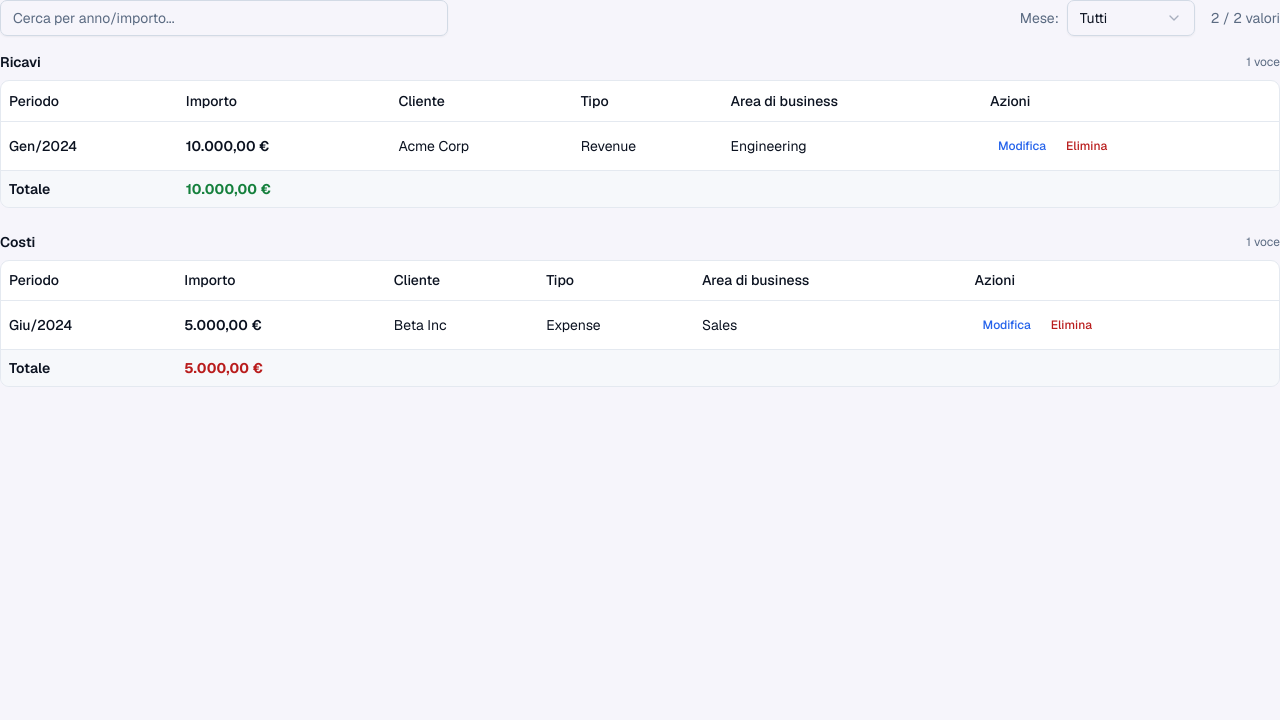
Test case: FinancialValueTable › closes the delete dialog when Cancel is clicked
Click the button "Elimina" in the row of "Gen".
click(1087, 146)  # box [1058,130,1115,162]
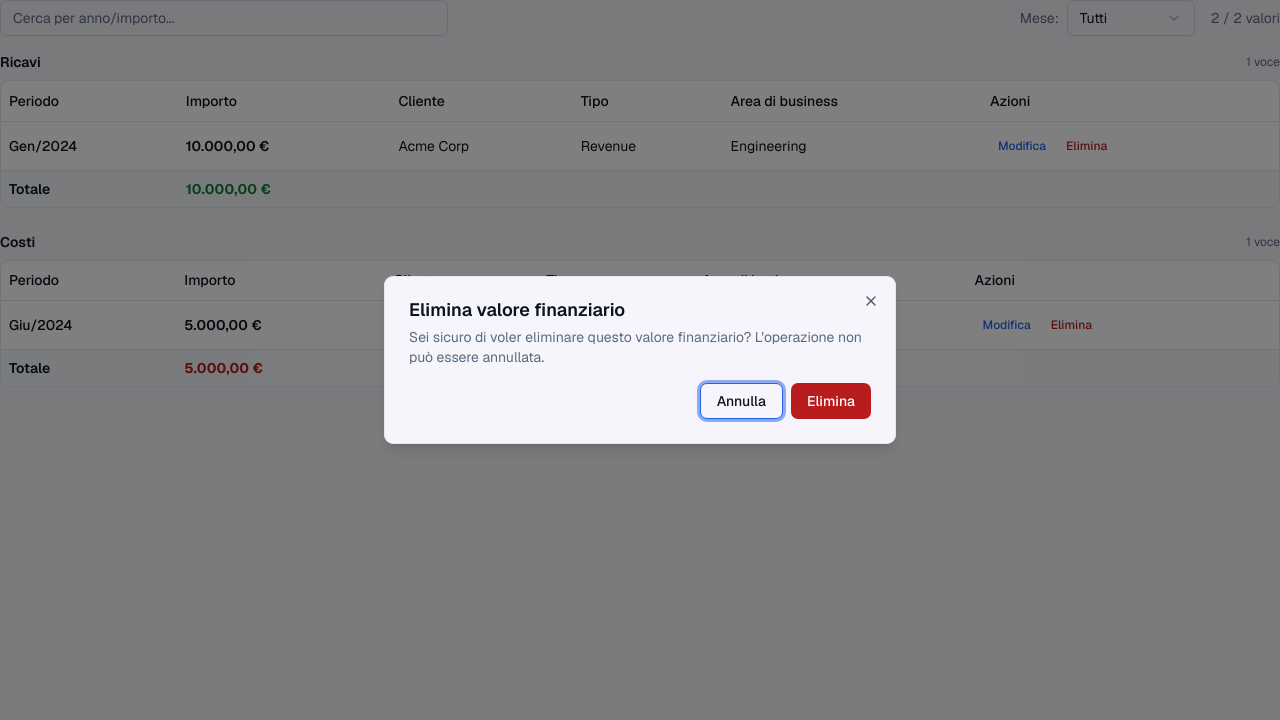
Expected: the dialog is shown, [384,276,896,444]
Click the button "Annulla".
click(741, 401)  # box [700,383,783,419]
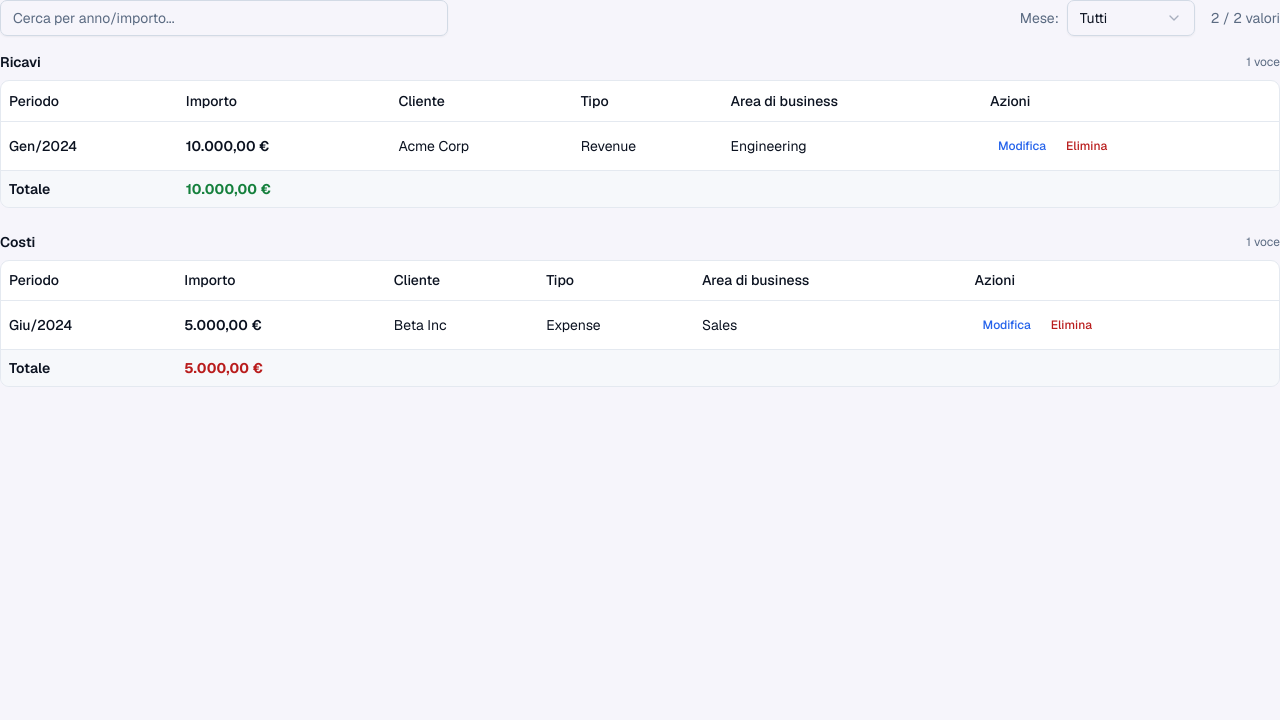
Expected: the dialog is gone
